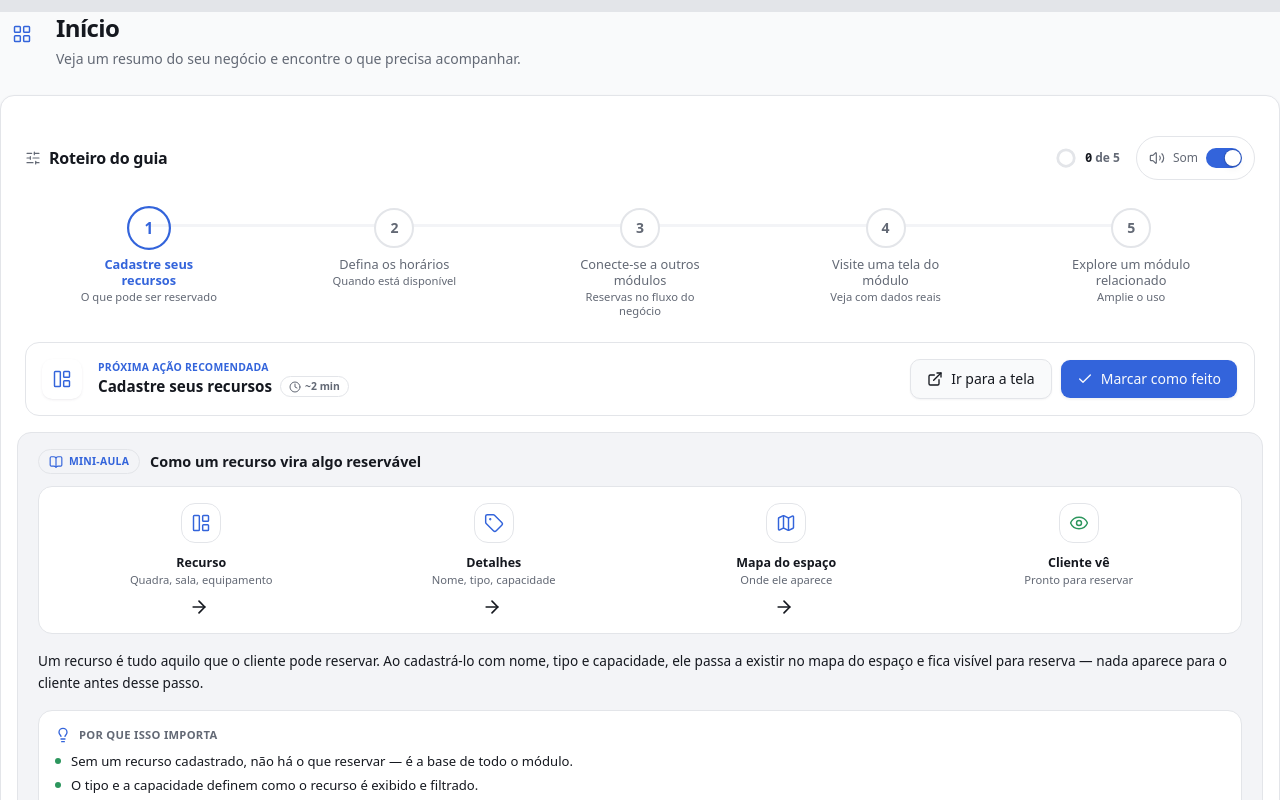
ModuleGuide › clicking an upcoming roadmap node previews that step's lesson
Click the button "2 Defina os horários Quando está disponível": click(394, 248) [275,204,514,292]
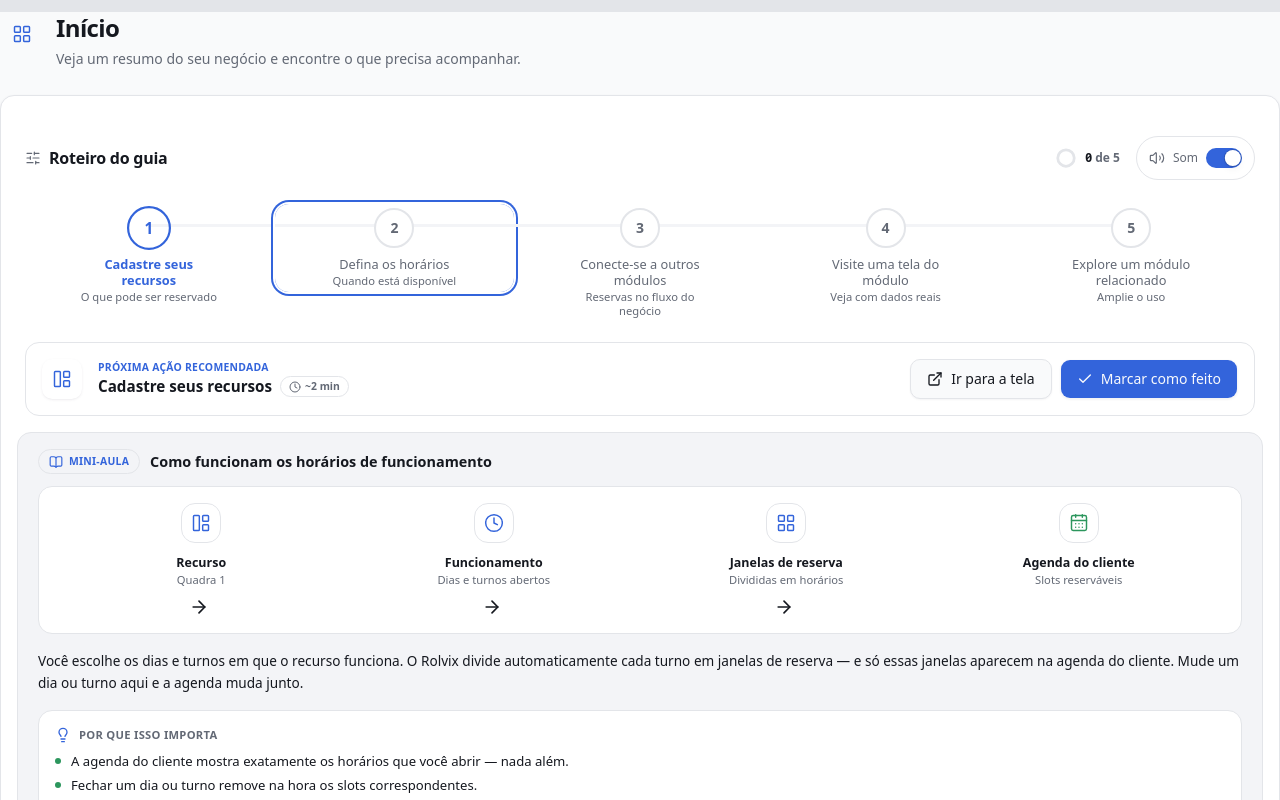
Result: the text "Como funcionam os horários de funcionamento" is shown at [150,451,492,472]
